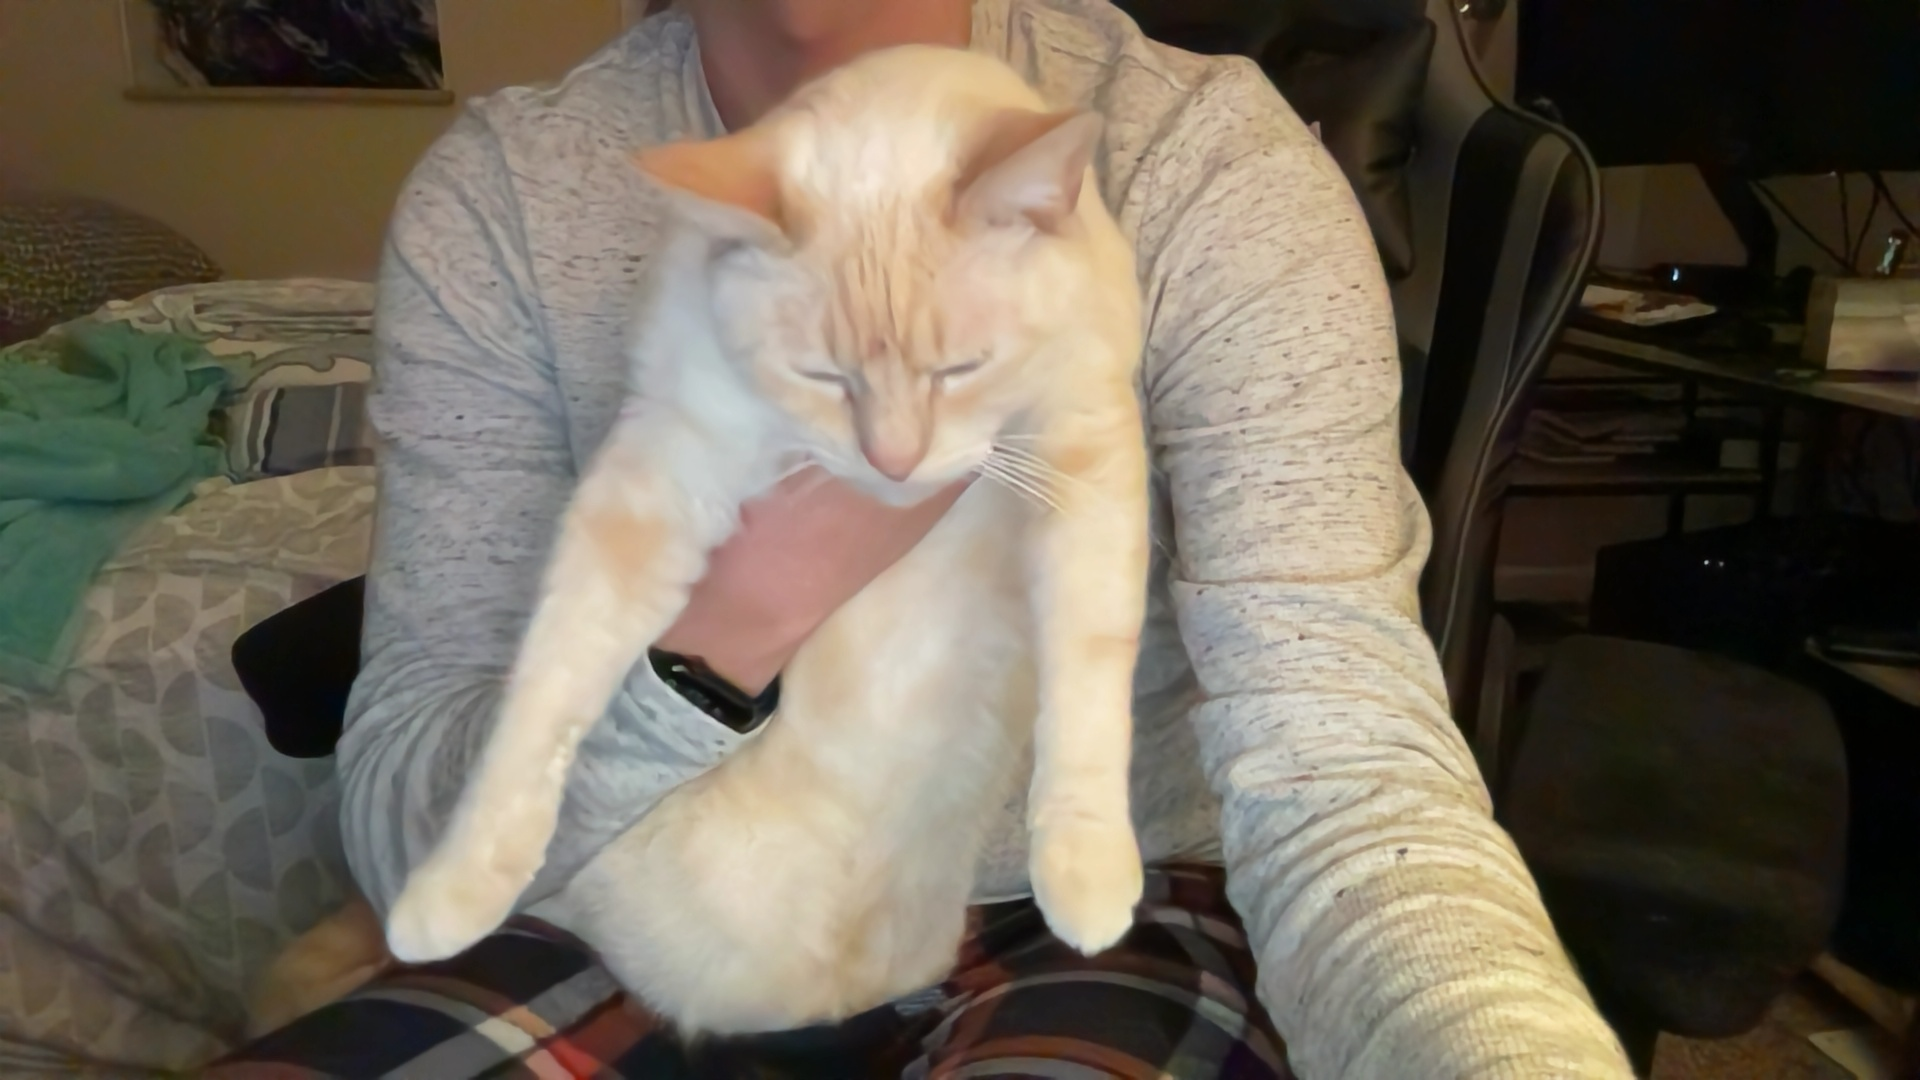cat: (375, 66, 1172, 1011)
